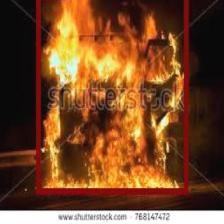fire: (36, 0, 187, 192)
